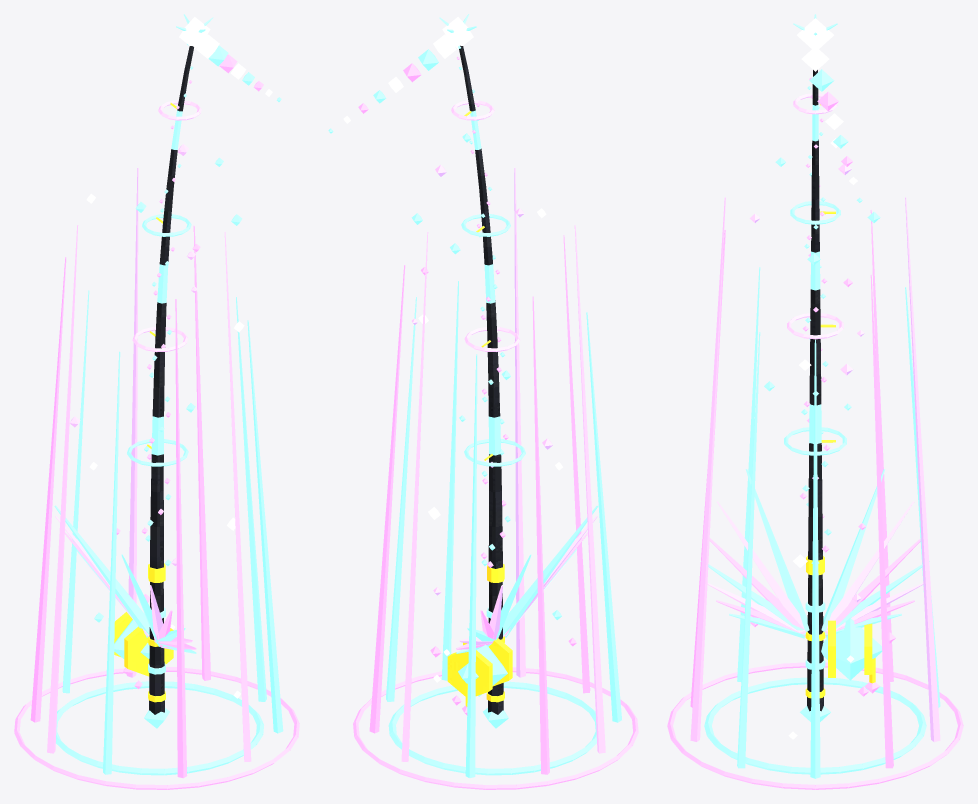
3 views of the same model, side by side, from view 1: azimuth 30°, elevation 25°; view 2: azimuth 150°, elevation 25°; view 3: azimuth 270°, elevation 25° (orthographic). The views are drawn at different scales.
Parts seen in each view (by area): view 1: Rod_premium; view 2: Rod_premium; view 3: Rod_premium.
Boxes of the visible parts, x1,y1,x2,y2 form: Rod_premium: (14, 14, 299, 789); Rod_premium: (328, 14, 638, 789); Rod_premium: (667, 14, 963, 789).
Bounding box in the file's own units: 1.02 × 2.55 × 0.9379.
Materials: 6 (5 with a texture image).
